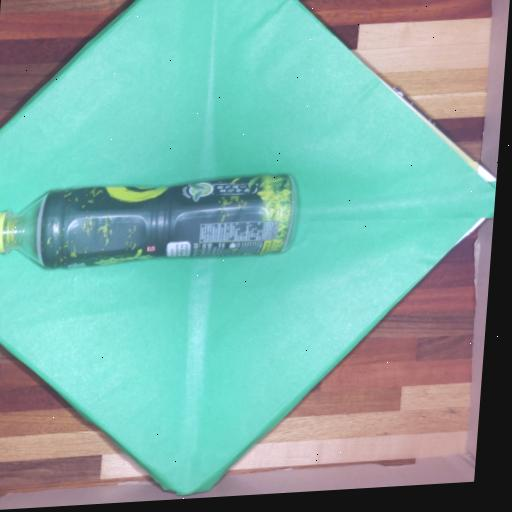bottle: (0, 145, 325, 283)
